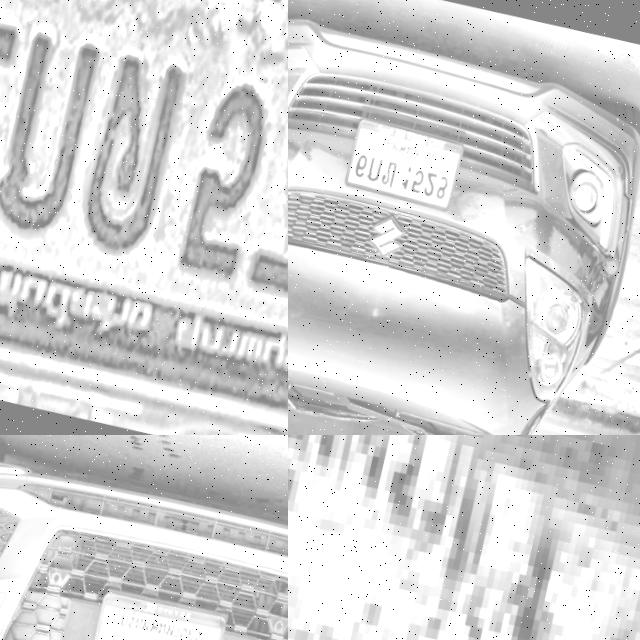license-plate: (0, 0, 288, 435), (288, 435, 640, 640), (338, 118, 467, 215), (79, 585, 229, 640)
